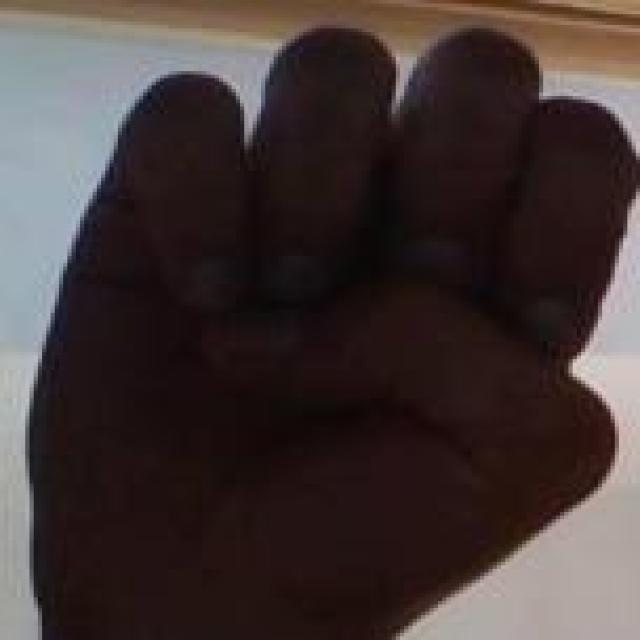E: (42, 14, 640, 603)
